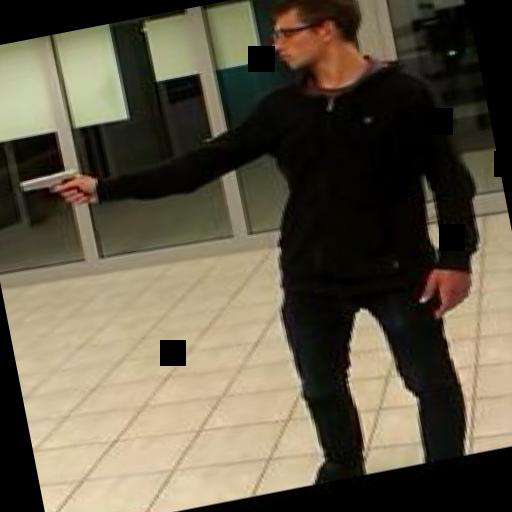Handgun: (13, 162, 91, 216)
